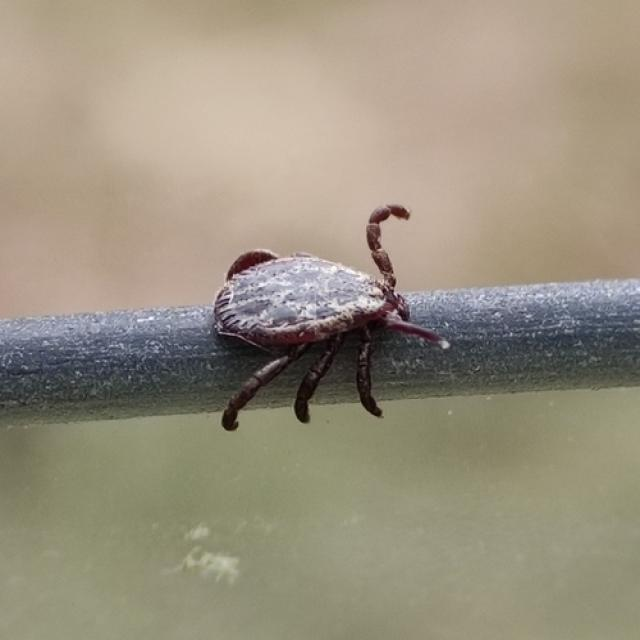Dermacentor Reticulatus-M: (211, 207, 449, 432)
